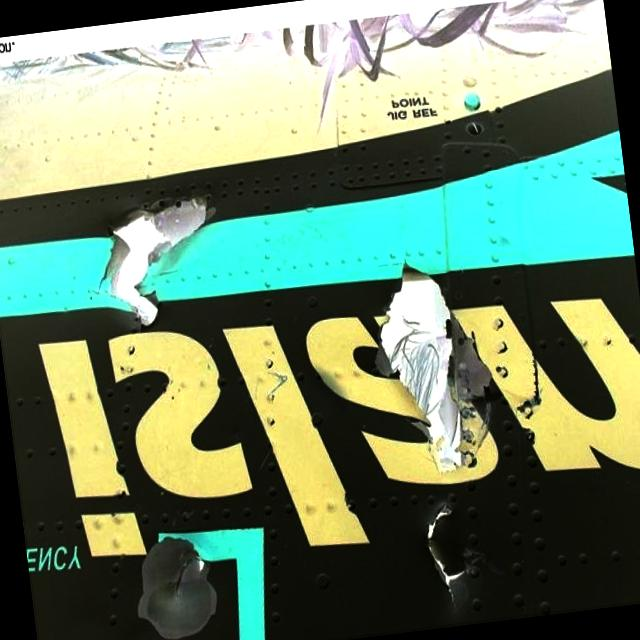crack: (363, 254, 478, 483), (94, 191, 229, 333), (418, 494, 482, 616), (162, 542, 212, 602)
